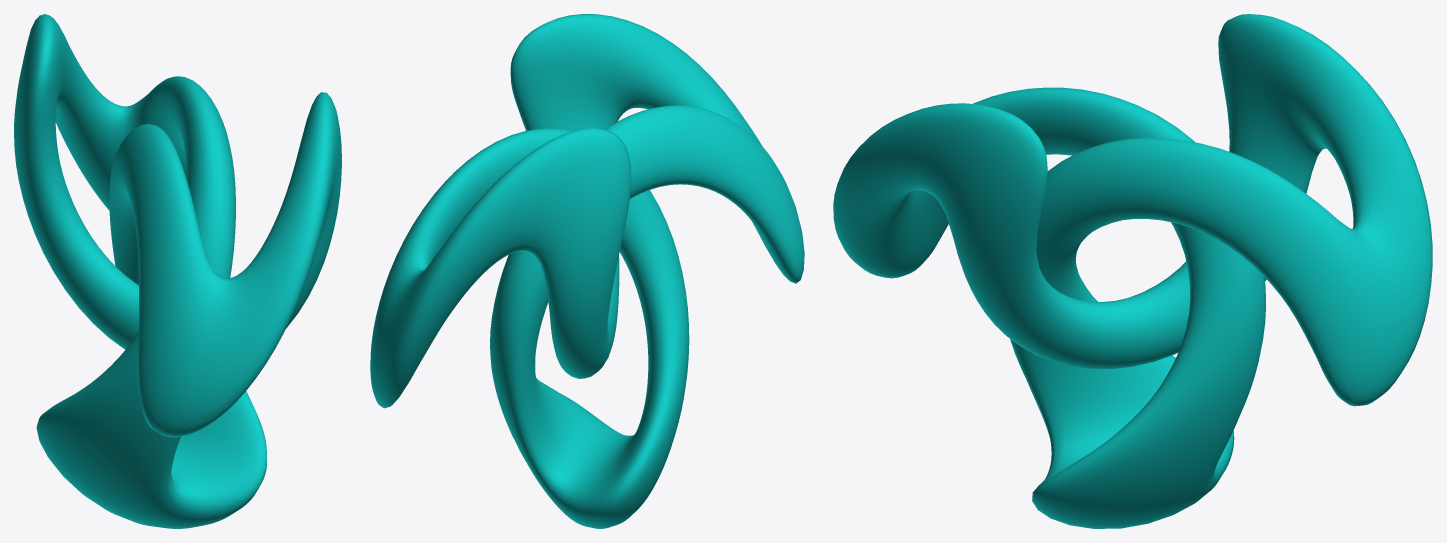
The model's file is abstract2-transformed.glb.
3 renders of one model, left to right at view 1: azimuth 30°, elevation 25°; view 2: azimuth 150°, elevation 25°; view 3: azimuth 270°, elevation 25°, orthographic. The views are drawn at different scales.
Visible parts, largest first — view 1: Object_4; view 2: Object_4; view 3: Object_4.
Boxes of the visible parts, x1,y1,x2,y2 form: Object_4: [14, 14, 341, 528]; Object_4: [370, 14, 804, 528]; Object_4: [833, 14, 1432, 528].
Bounding box in the file's own units: 3.31 × 5.94 × 6.67.
